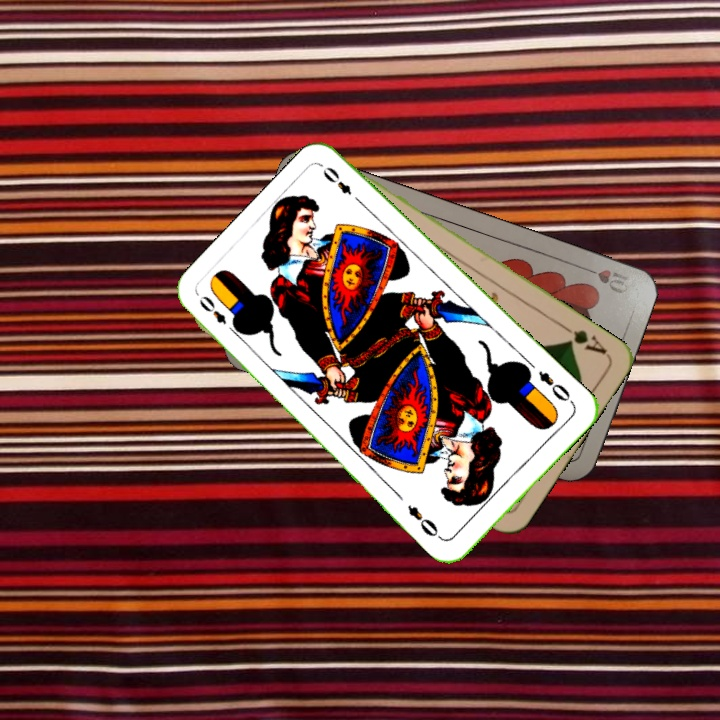EO: (534, 367, 577, 408), (194, 291, 229, 327)
GA: (557, 320, 610, 357)
H10: (576, 262, 636, 297)
